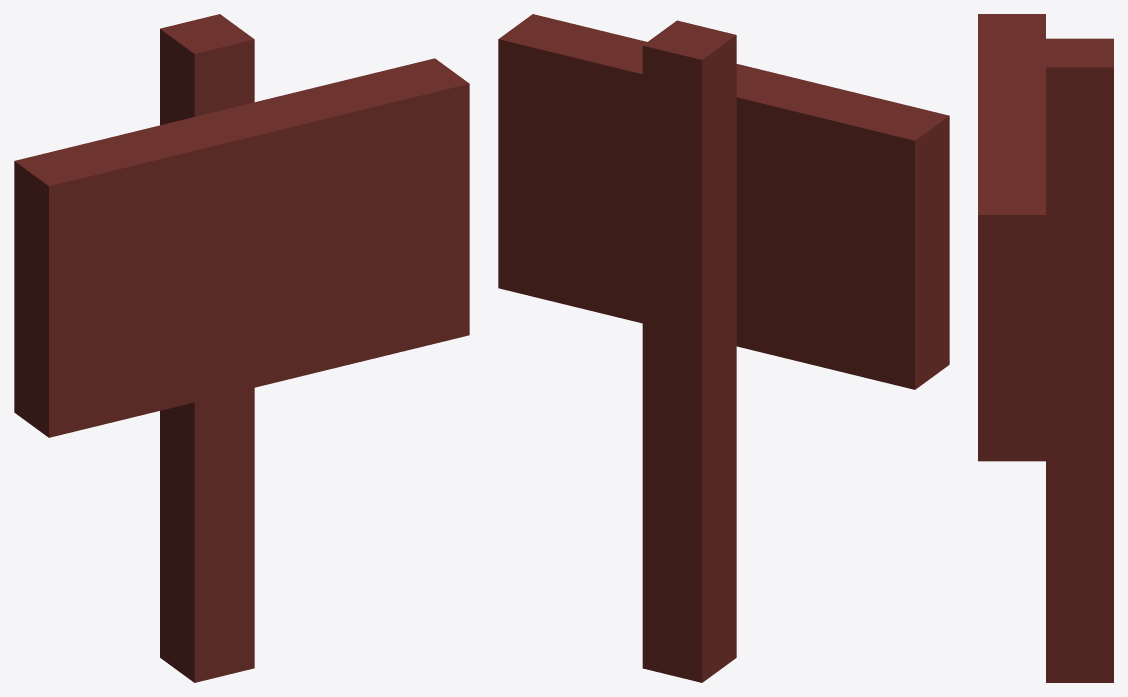
Rendered from signpost_b.obj.
3 views of the same model, side by side, from view 1: azimuth 30°, elevation 25°; view 2: azimuth 150°, elevation 25°; view 3: azimuth 270°, elevation 25° (orthographic). The views are drawn at different scales.
Size of the model in its own units: 0.7 by 1 by 0.2.
1 material, 1 textured.
